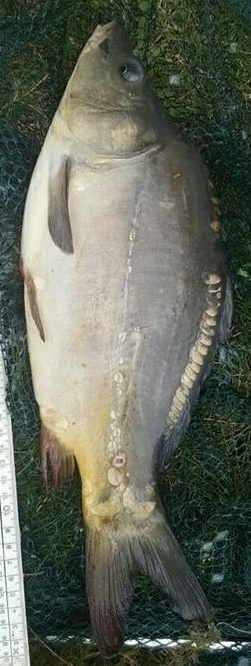Cyprinus carpio: (20, 20, 231, 646)
